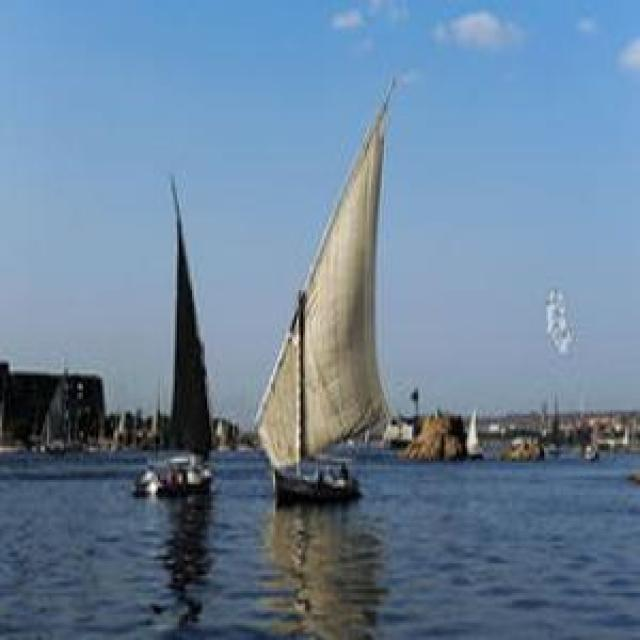sailboat: (250, 82, 406, 511), (112, 166, 220, 504)
